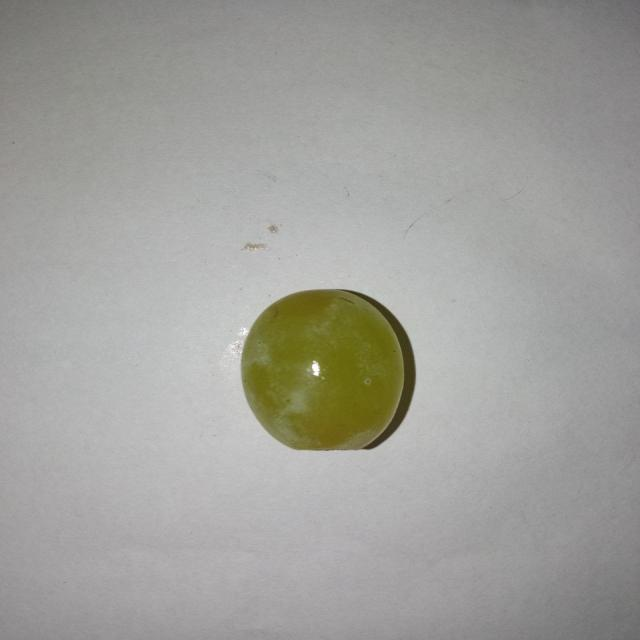fresh_grape: (234, 286, 412, 451)
